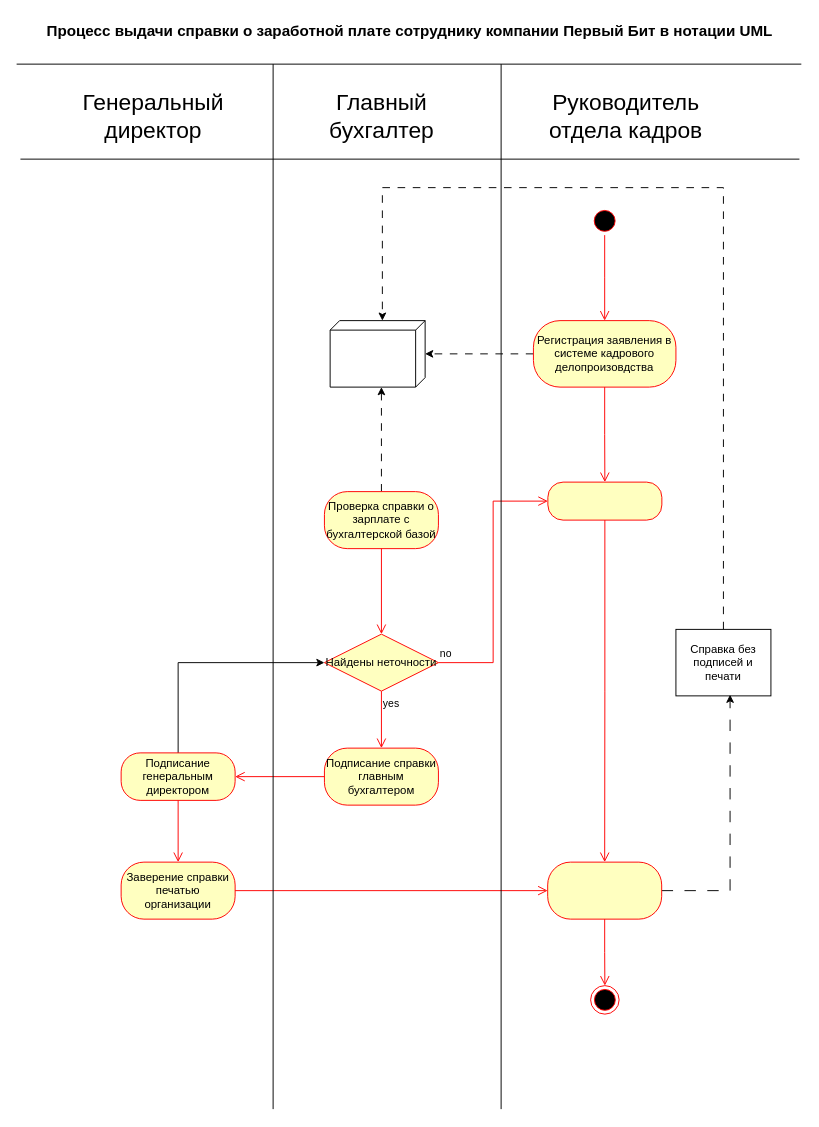
The diagram is 819 pixels wide and 1127 high, and some of its shapes have lost their labels. Here are the shapes that lost their labels. From the top down, the centre of each, then its label:
(377,353): База 1 С
(604,500): Оформление справки о зарплате
(604,890): Регистрация справки в журнале исходящих докуметов
